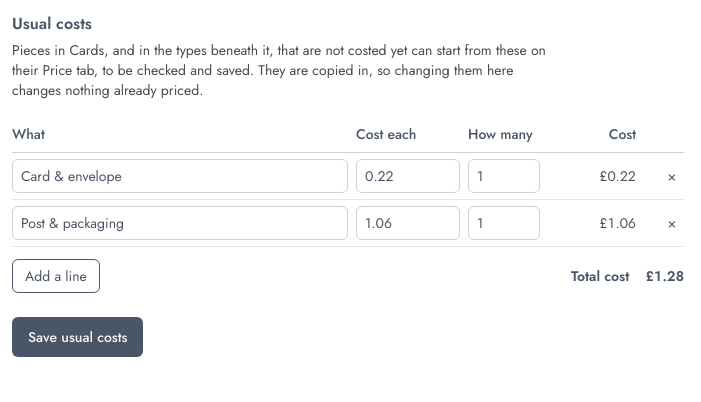
Scenario: CategoryCostsForm, when a save is rejected › keeps the lines typed
The image size is (701, 402).
Replace the text in the field named "Cost each" next to "£1.06" with "1.1p" at (408,223), box [356,206,460,240]
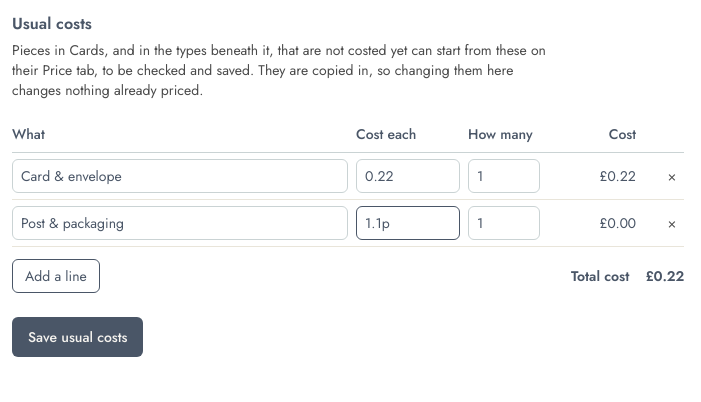
Click the button "Save usual costs" at (78,337), box [12,317,144,357]
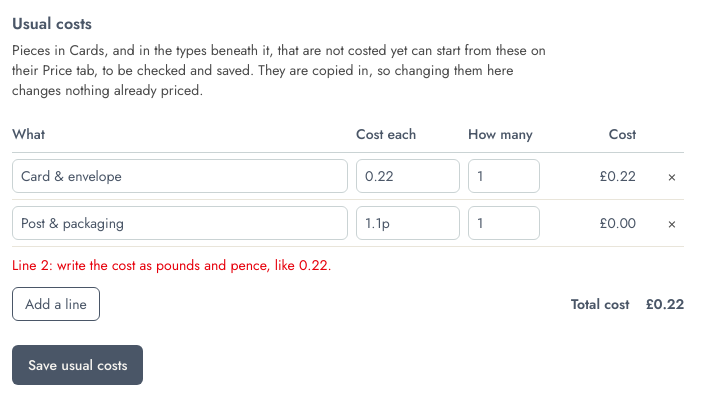
Expected: the text "Line 2: write the cost as pounds and pence, like 0.22." is shown, [12,255,332,275]
